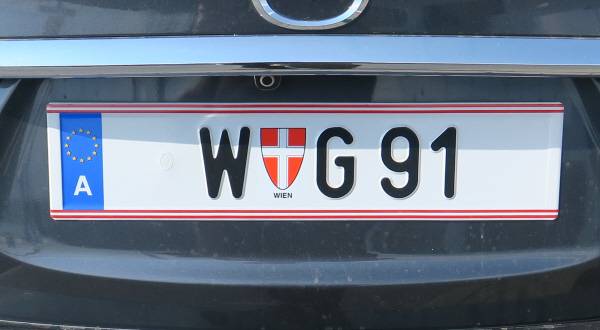license_plate: (46, 101, 564, 222)
